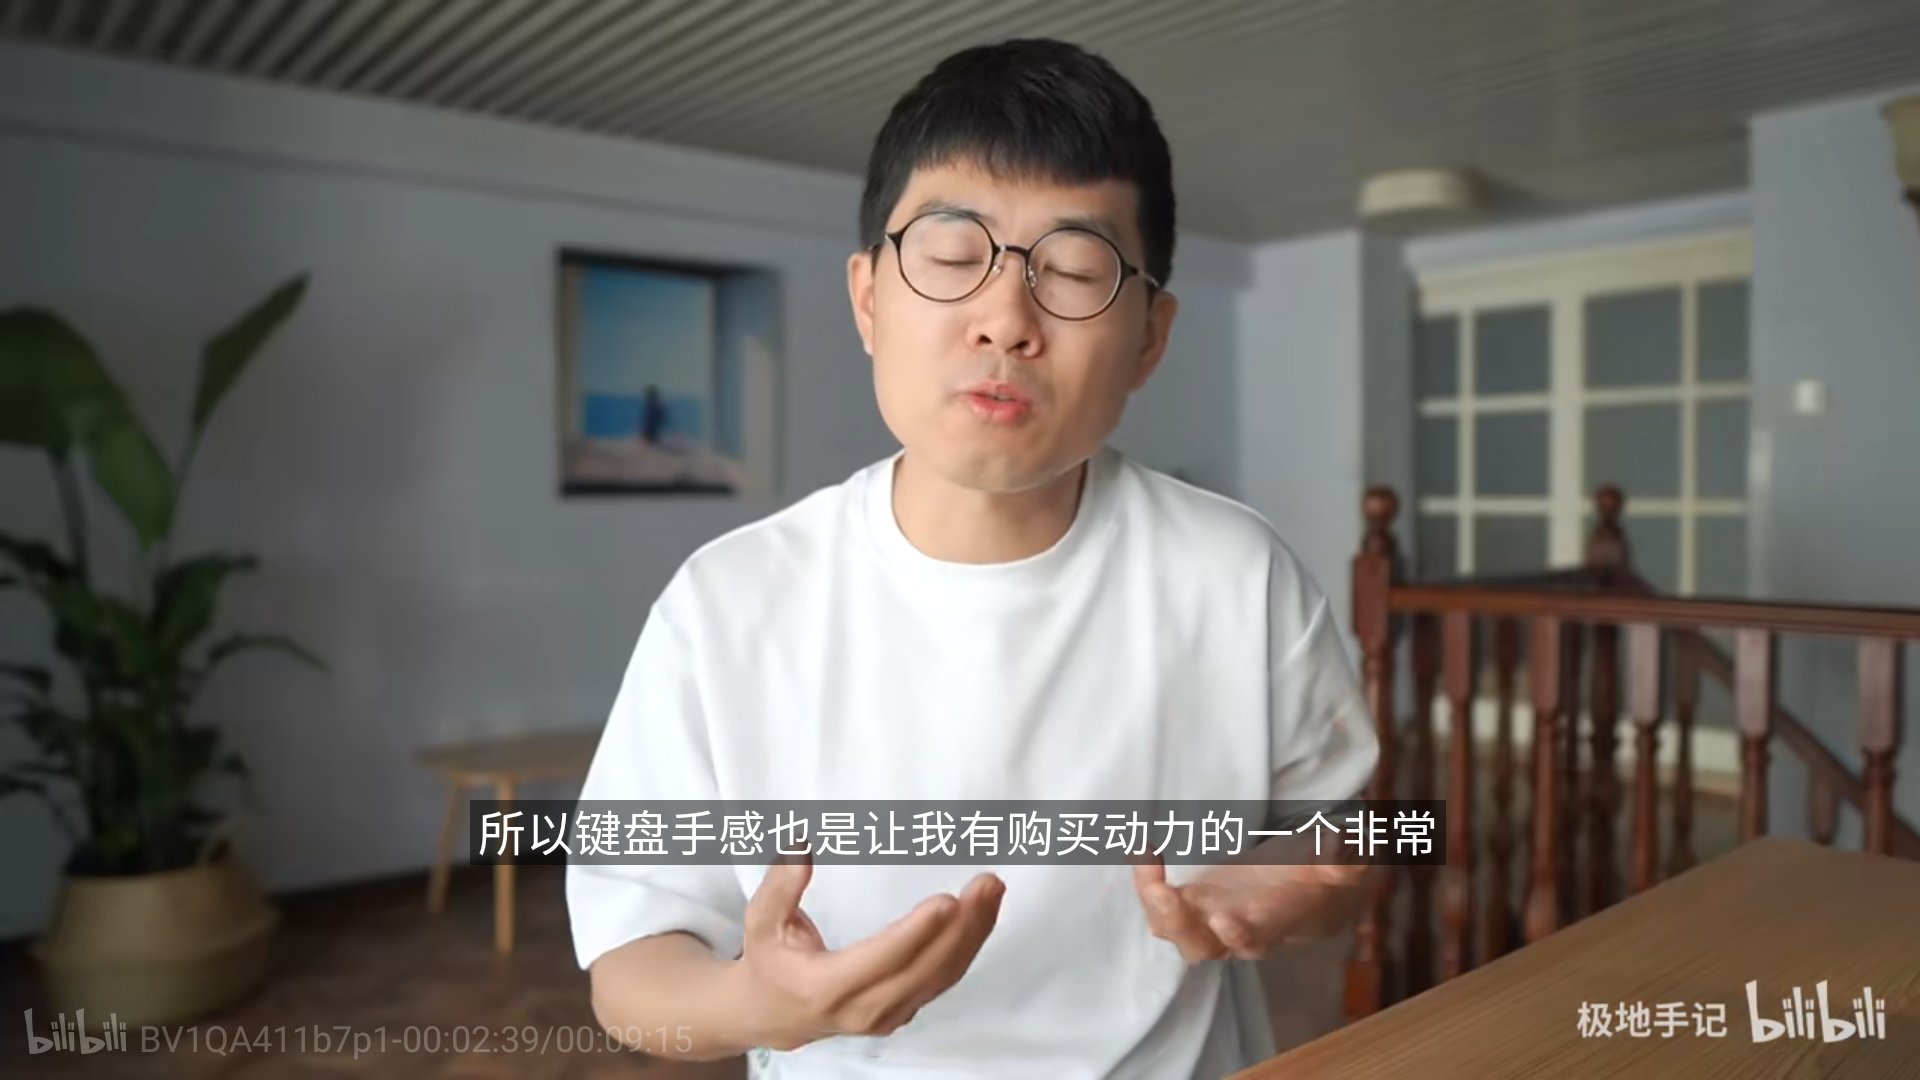noWear: (847, 185, 1185, 501)
